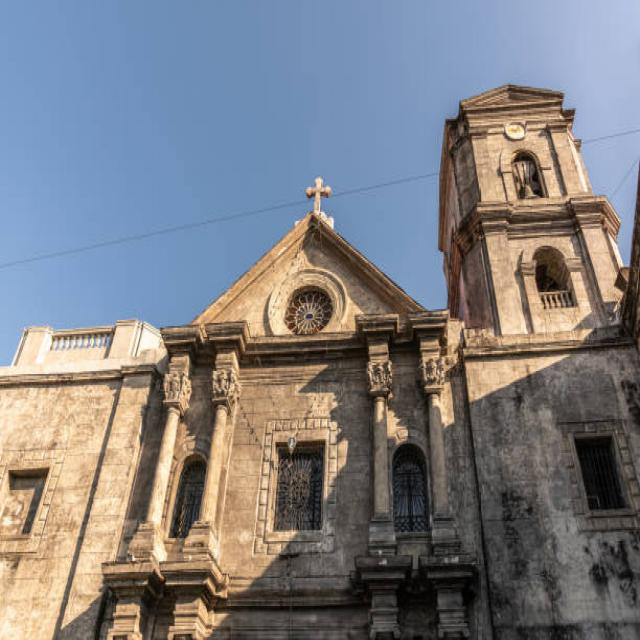San Agustin Church: (0, 79, 638, 639)
